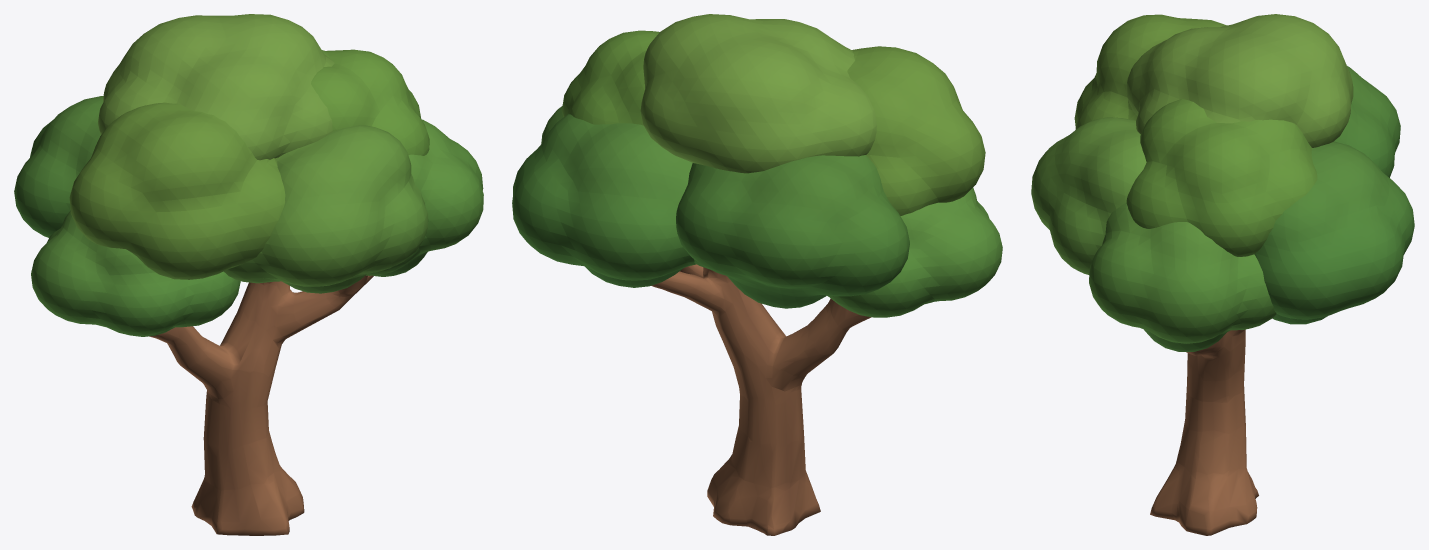
The model's file is oak.glb.
3 views of the same model, side by side, from view 1: azimuth 30°, elevation 25°; view 2: azimuth 150°, elevation 25°; view 3: azimuth 270°, elevation 25° (orthographic). The views are drawn at different scales.
Parts seen in each view (by area): view 1: Oak | Canopy, 01 | Trunk and scaffold limbs; view 2: Oak | Canopy, 01 | Trunk and scaffold limbs; view 3: Oak | Canopy, 01 | Trunk and scaffold limbs.
Boxes of the visible parts, x1=… form: Oak | Canopy: x1=14, y1=14, x2=483, y2=336; 01 | Trunk and scaffold limbs: x1=149, y1=275, x2=373, y2=535; Oak | Canopy: x1=512, y1=14, x2=1002, y2=317; 01 | Trunk and scaffold limbs: x1=651, y1=264, x2=871, y2=535; Oak | Canopy: x1=1031, y1=14, x2=1414, y2=351; 01 | Trunk and scaffold limbs: x1=1150, y1=329, x2=1258, y2=535.
Bounding box in the file's own units: 3.82 × 4 × 2.92.
